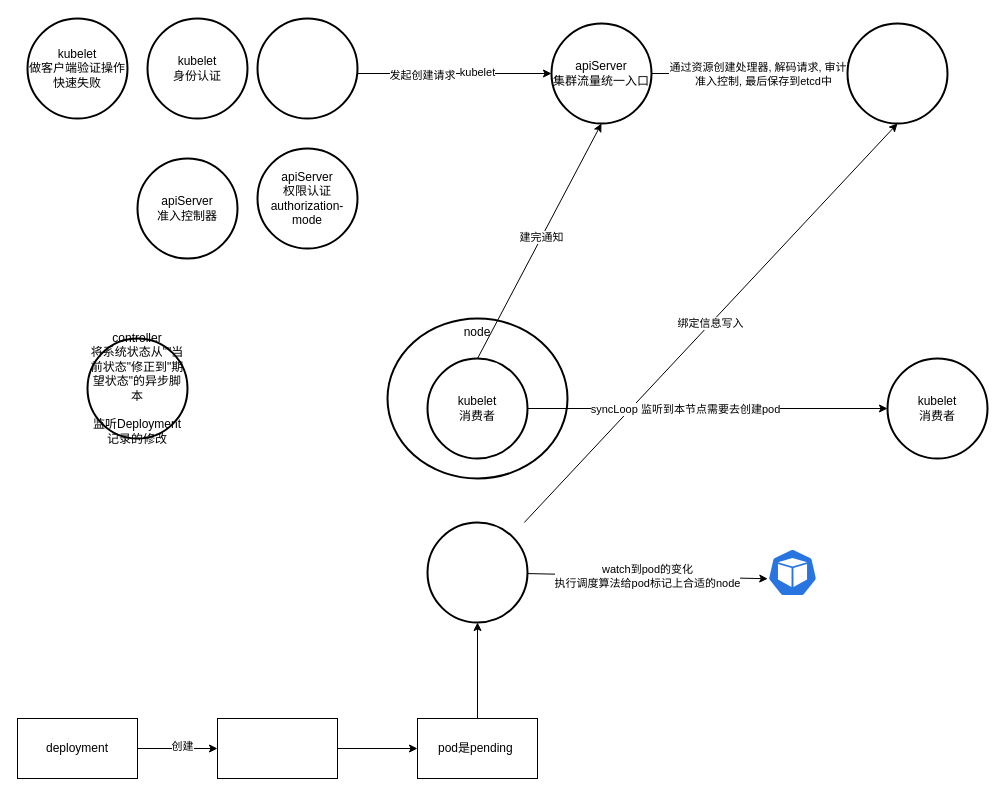
The diagram is 1006 pixels wide and 796 high, and some of its shapes have lost their labels. Each missing label, with the centre of its shape:
apiServer 请求认证 x509 token: (307,68)
etcd 数据存储: (897,73)
repliacset: (277,748)
scheduler 生产者: 给pod找出合适的node节点: (477,572)
